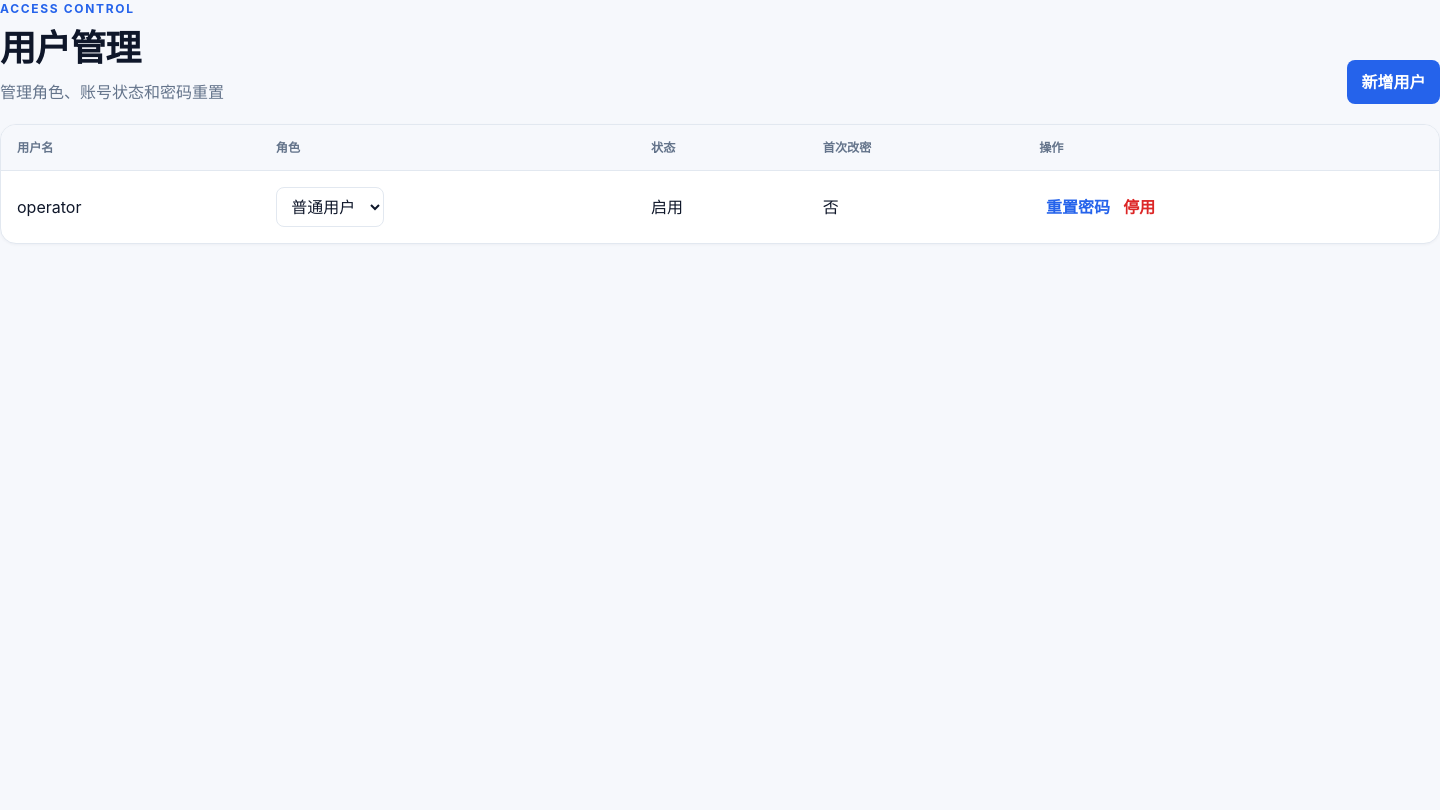
Scenario: shows a reset password only after success and clears it on close
Expected: the text "temp-Only-123" is not shown
Click the button with aria-label "重置operator的密码" at (1078, 207), box x1=1039 y1=185 x2=1117 y2=229
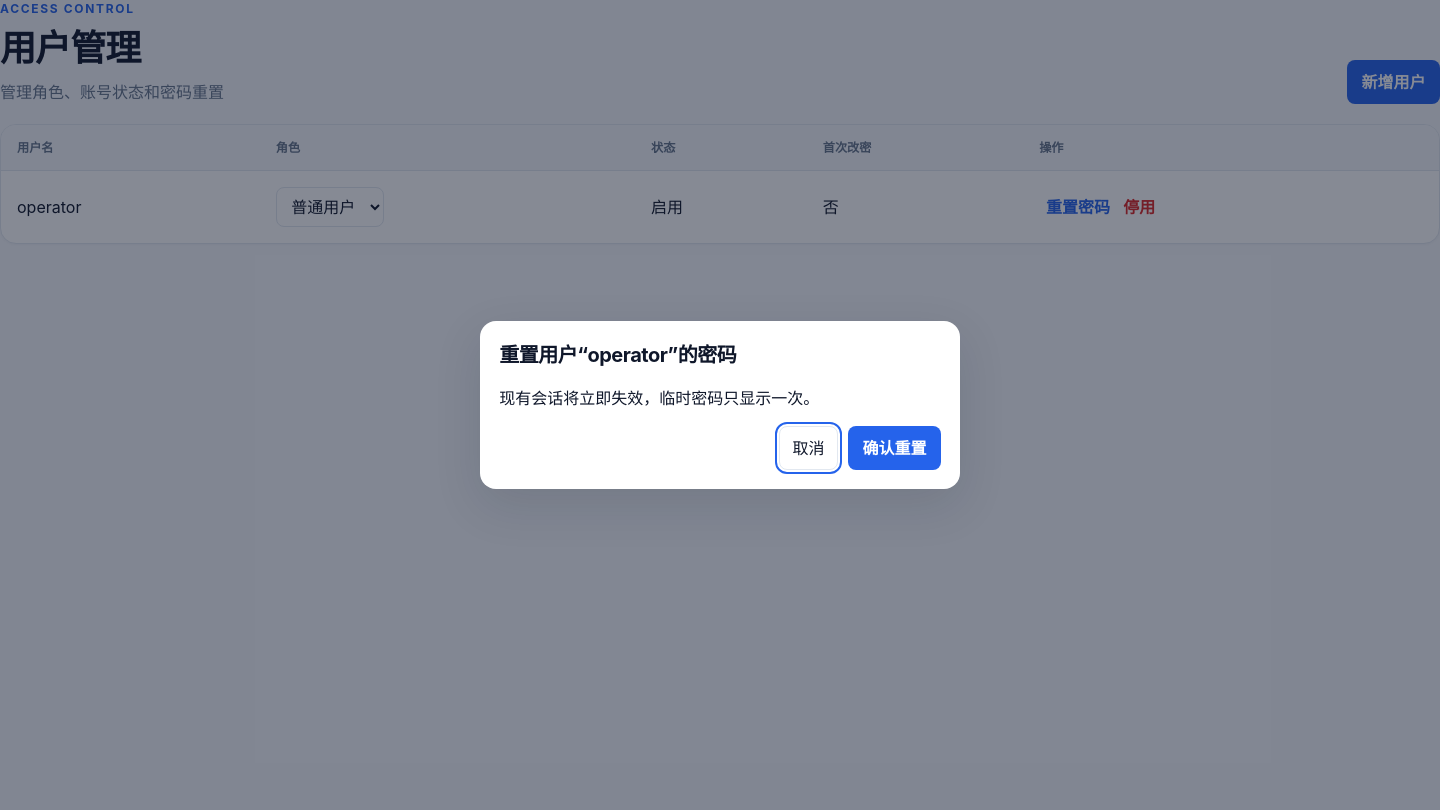
Click the button "确认重置" at (894, 448), box x1=848 y1=426 x2=941 y2=470
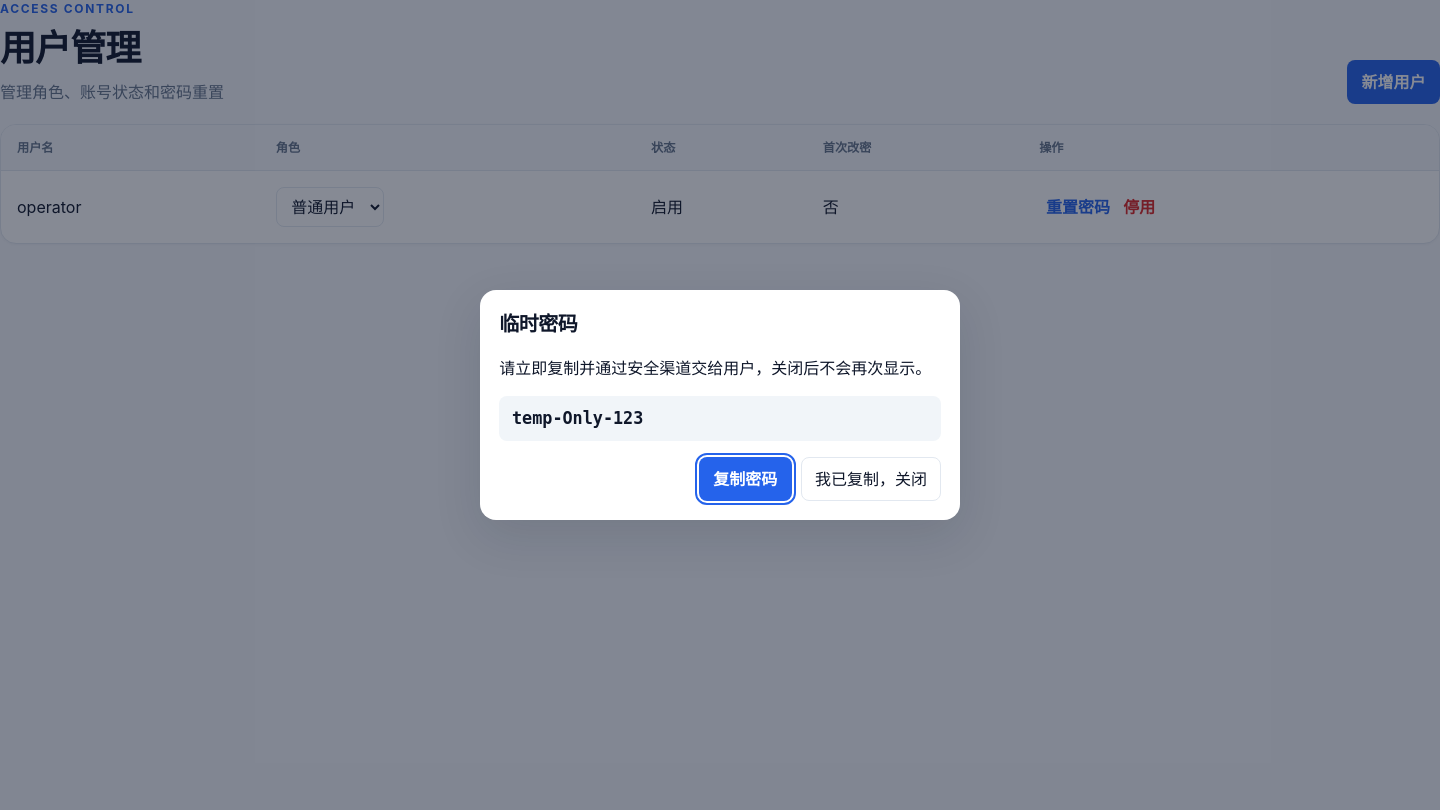
Expected: the text "temp-Only-123" is shown, x1=499 y1=396 x2=941 y2=441
Press Escape
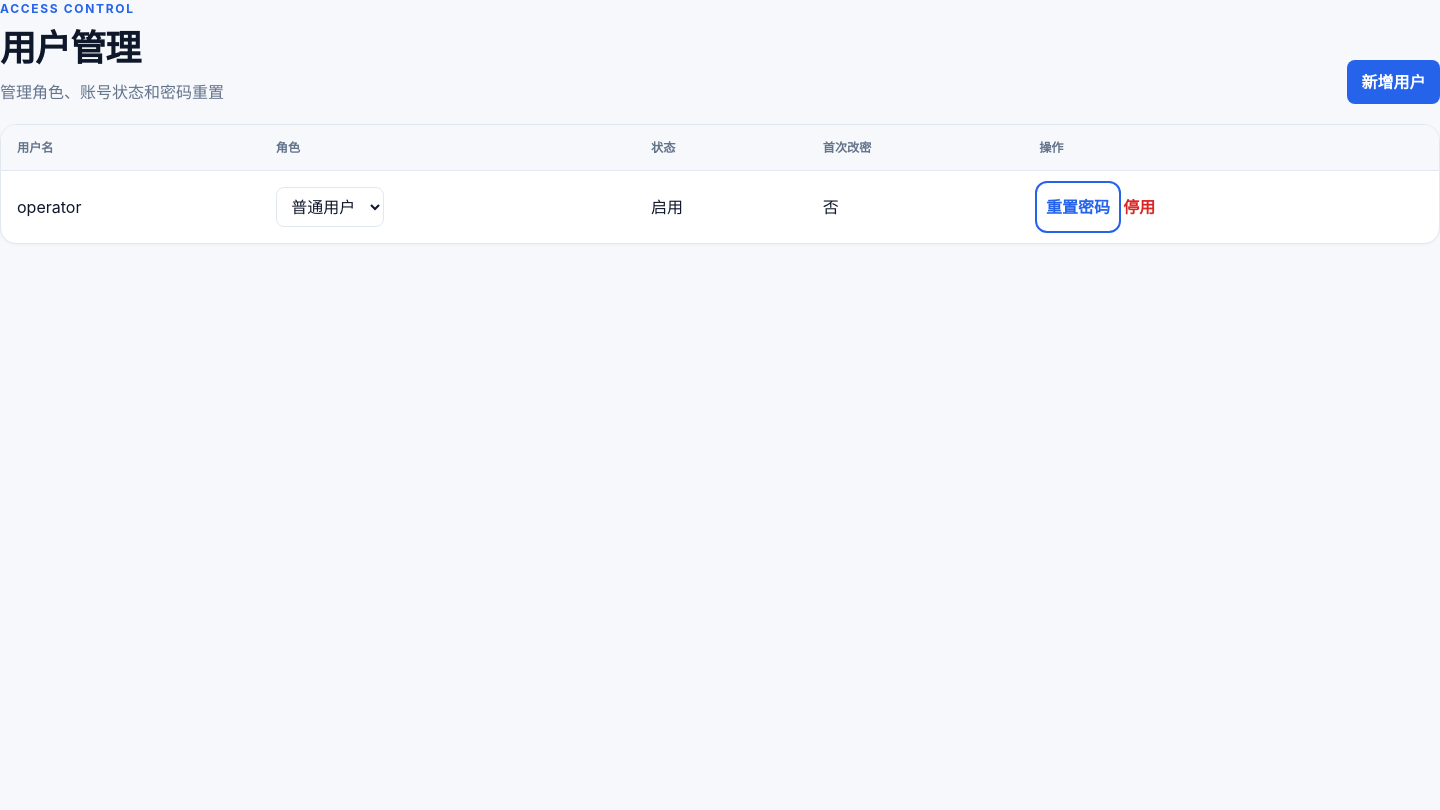
Expected: the text "temp-Only-123" is gone
